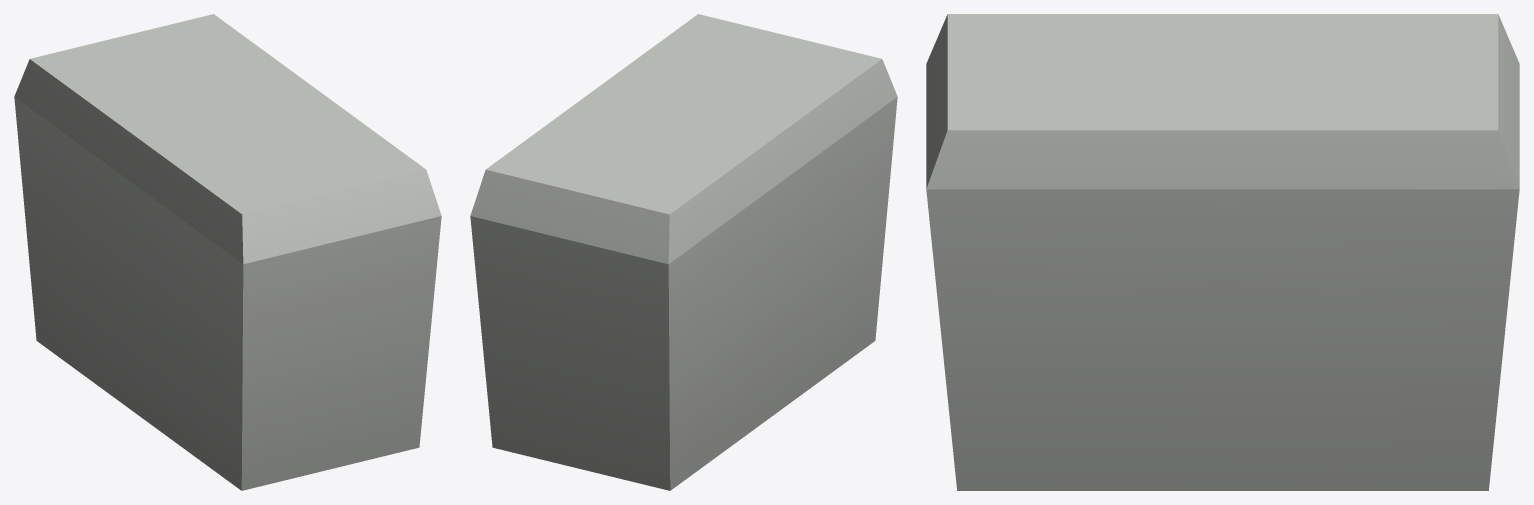
Rendered from Tapered_Rectangle.fbx.
3 renders of one model, left to right at view 1: azimuth 30°, elevation 25°; view 2: azimuth 150°, elevation 25°; view 3: azimuth 270°, elevation 25°, orthographic. The views are drawn at different scales.
Parts seen in each view (by area): view 1: Tapered_Rectangle; view 2: Tapered_Rectangle; view 3: Tapered_Rectangle.
Part boxes in pixels (x1,y1,x2,y2): Tapered_Rectangle: [14, 14, 441, 490]; Tapered_Rectangle: [470, 14, 897, 490]; Tapered_Rectangle: [926, 14, 1519, 490].
Bounding box in the file's own units: 112 × 151 × 223.
